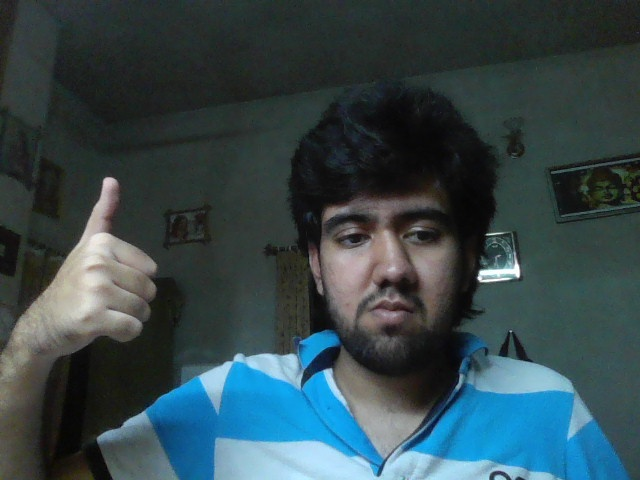Ok: (41, 176, 159, 338)
